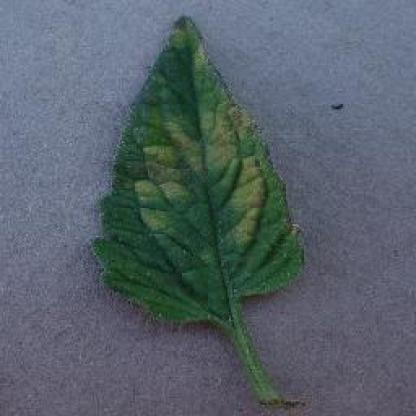bad leaf: (129, 18, 249, 252)
